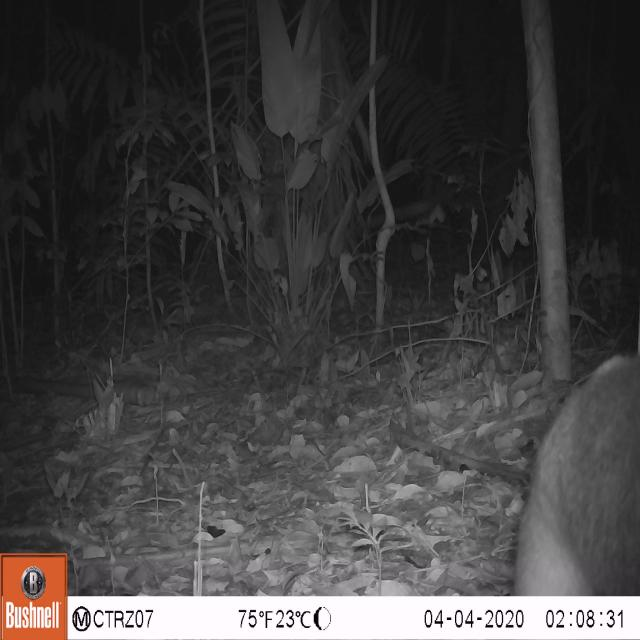Southern Tamandua: (516, 414, 638, 594)
